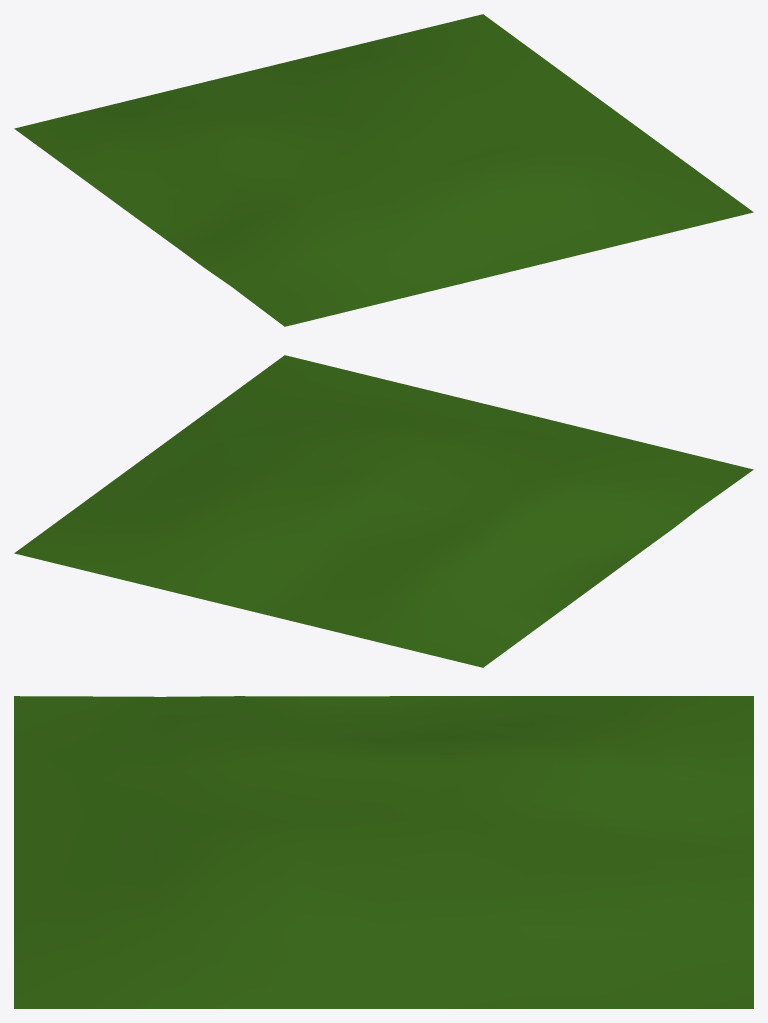
The model's file is grass part.fbx.
3 renders of one model, top to bottom at view 1: azimuth 30°, elevation 25°; view 2: azimuth 150°, elevation 25°; view 3: azimuth 270°, elevation 25°, orthographic. The views are drawn at different scales.
Parts seen in each view (by area): view 1: grass_part; view 2: grass_part; view 3: grass_part.
Boxes of the visible parts, <box> form: grass_part: <box>14,14,753,326</box>; grass_part: <box>14,355,753,667</box>; grass_part: <box>14,696,753,1008</box>.
Bounding box in the file's own units: 6.87 × 0.3768 × 6.87.
